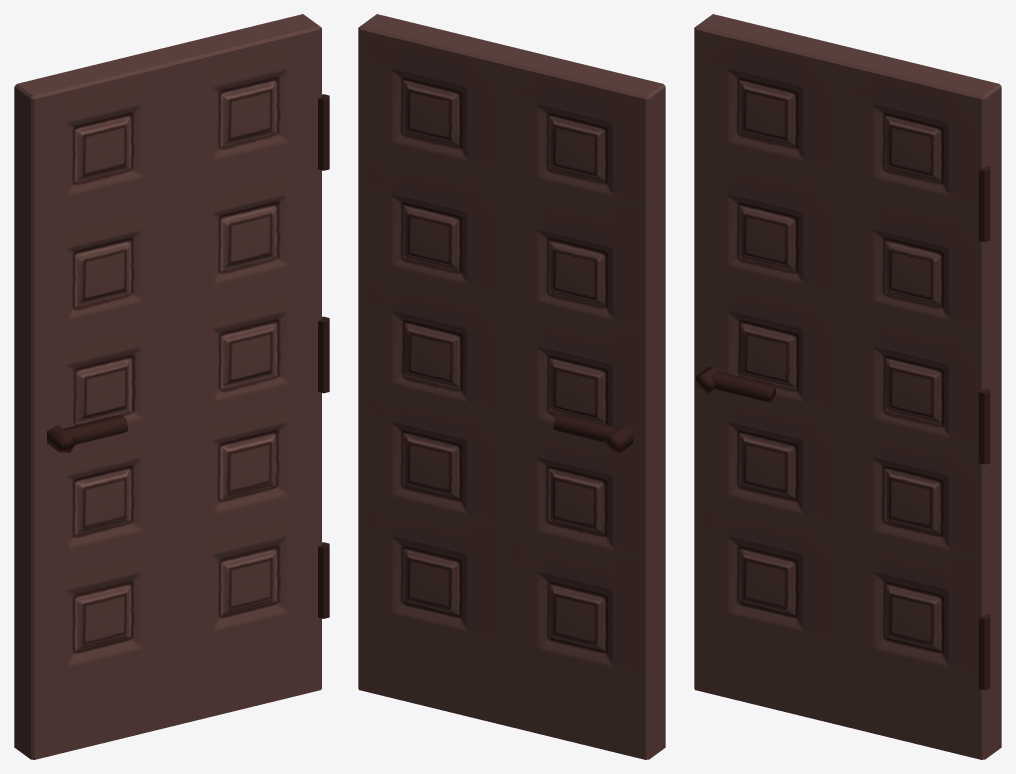
The model's file is Door_exp.fbx.
3 views of the same model, side by side, from view 1: azimuth 30°, elevation 25°; view 2: azimuth 150°, elevation 25°; view 3: azimuth 330°, elevation 25° (orthographic).
Parts seen in each view (by area): view 1: pCube3, pCylinder1, pCylinder3, pCylinder5, pCylinder4, pCylinder2; view 2: pCube3, pCylinder6, pCylinder7; view 3: pCube3, pCylinder1, pCylinder5, pCylinder4, pCylinder3.
Part boxes in pixels (bbox=[...]): pCube3: bbox=[14, 14, 321, 759]; pCylinder1: bbox=[64, 414, 128, 444]; pCylinder3: bbox=[318, 94, 329, 170]; pCylinder5: bbox=[318, 316, 329, 393]; pCylinder4: bbox=[318, 542, 329, 618]; pCylinder2: bbox=[47, 425, 76, 452]; pCube3: bbox=[358, 14, 665, 759]; pCylinder6: bbox=[553, 413, 617, 442]; pCylinder7: bbox=[603, 425, 632, 452]; pCube3: bbox=[694, 14, 1001, 759]; pCylinder1: bbox=[711, 371, 776, 403]; pCylinder5: bbox=[978, 388, 990, 464]; pCylinder4: bbox=[978, 614, 990, 689]; pCylinder3: bbox=[978, 166, 990, 241].
Bounding box in the file's own units: 3.08 × 6.56 × 0.7674.
1 material, 1 textured.
